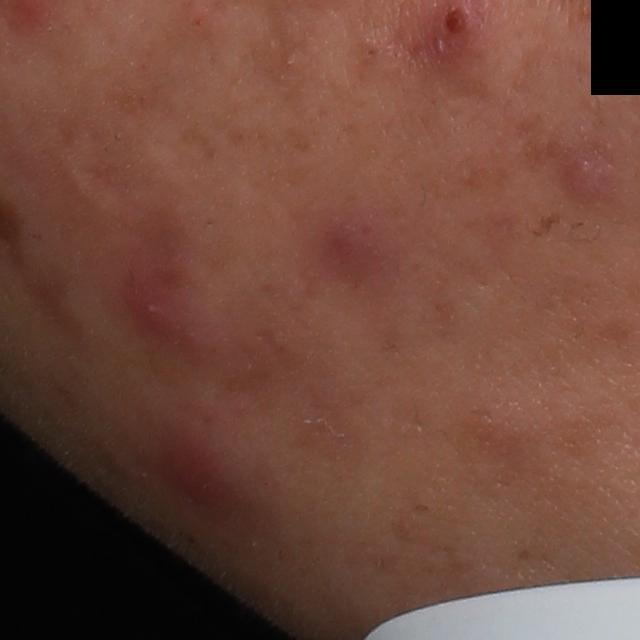papule: (160, 438, 232, 517), (557, 156, 610, 208)
